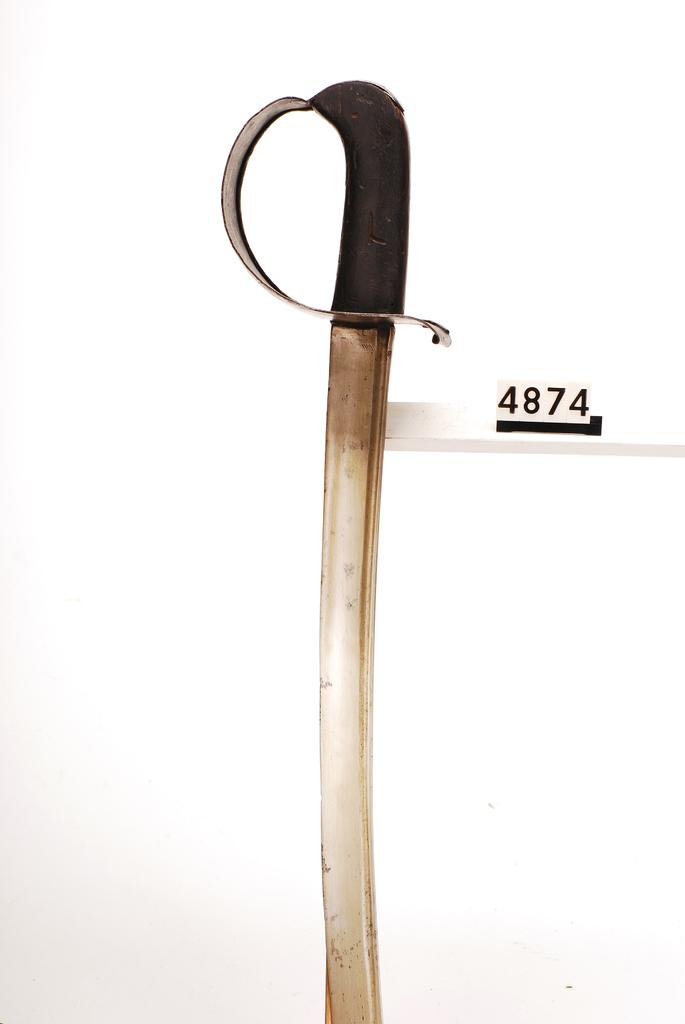Sword: (219, 79, 453, 1023)
